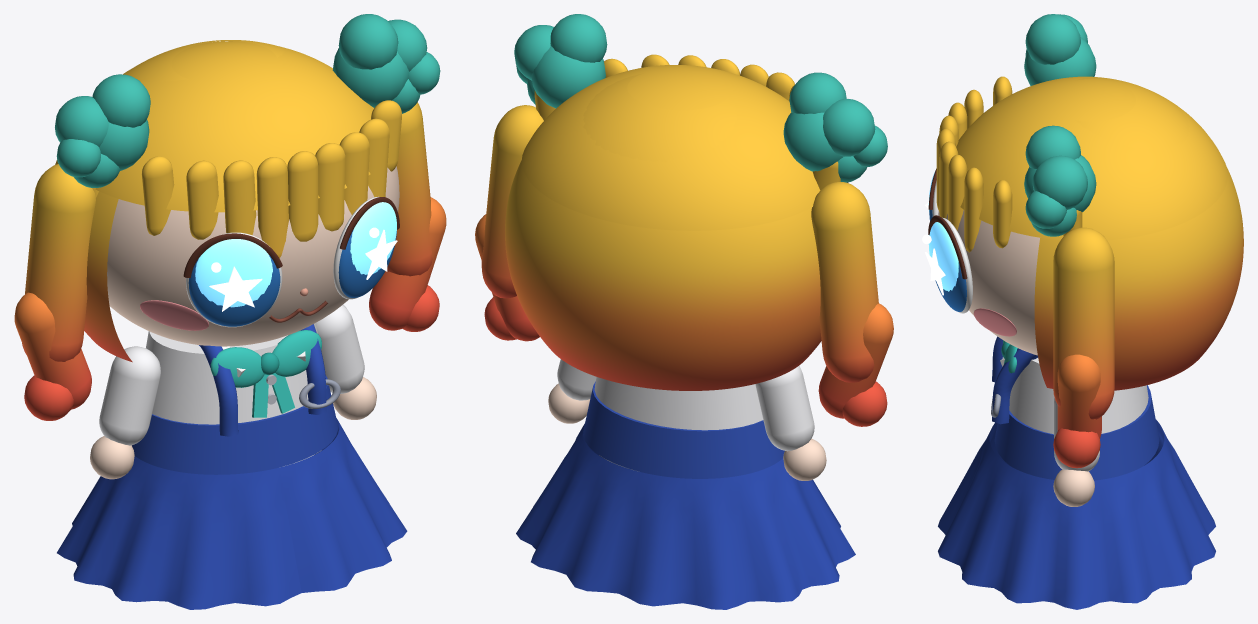
The model's file is before.glb.
3 views of the same model, side by side, from view 1: azimuth 30°, elevation 25°; view 2: azimuth 150°, elevation 25°; view 3: azimuth 270°, elevation 25° (orthographic). The views are drawn at different scales.
Parts seen in each view (by area): view 1: Skirt, HairCap, Head, TealPuff (×2), SideLock (×2), Bodice, EyeR, Sleeve (×2), LockTip (×2), Blouse, HairBack, EyeL (+14 smaller); view 2: HairBack, Skirt, HairCap, SideLock (×2), TealPuff (×2), Bodice, Blouse, Sleeve (×2), LockTip (×2), Hand (×2), LockCurl (×2); view 3: Skirt, HairBack, HairCap, TealPuff (×2), SideLock, Head, Bodice, Blouse, EyeL, LockTip, LockCurl, Bang8 (+8 smaller).
Part boxes in pixels (<box>): Skirt: <box>57,418,407,609</box>; HairCap: <box>95,41,373,212</box>; Head: <box>107,166,399,346</box>; TealPuff (×2): <box>55,14,440,187</box>; SideLock (×2): <box>22,102,432,361</box>; Bodice: <box>132,375,337,474</box>; EyeR: <box>183,232,282,327</box>; Sleeve (×2): <box>99,304,364,445</box>; LockTip (×2): <box>14,197,446,409</box>; Blouse: <box>146,323,321,466</box>; HairBack: <box>55,40,284,362</box>; EyeL: <box>333,196,399,299</box>; HairBack: <box>505,73,821,390</box>; Skirt: <box>516,423,855,609</box>; HairCap: <box>521,65,820,230</box>; SideLock (×2): <box>481,105,878,382</box>; TealPuff (×2): <box>514,14,887,182</box>; Bodice: <box>583,381,784,478</box>; Blouse: <box>594,377,763,471</box>; Sleeve (×2): <box>557,359,814,451</box>; LockTip (×2): <box>475,214,893,418</box>; Hand (×2): <box>548,383,826,480</box>; LockCurl (×2): <box>484,297,887,426</box>; Skirt: <box>938,419,1215,609</box>; HairBack: <box>1034,77,1243,390</box>; HairCap: <box>956,76,1227,240</box>; TealPuff (×2): <box>1024,14,1096,236</box>; SideLock: <box>1053,227,1114,419</box>; Head: <box>938,210,1039,355</box>; Bodice: <box>994,385,1159,480</box>; Blouse: <box>1009,358,1148,434</box>; EyeL: <box>922,215,972,313</box>; LockTip: <box>1057,354,1101,438</box>; LockCurl: <box>1053,428,1100,468</box>; Bang8: <box>964,167,983,252</box>.
Bounding box in the file's own units: 3.27 × 3.7 × 2.31.
